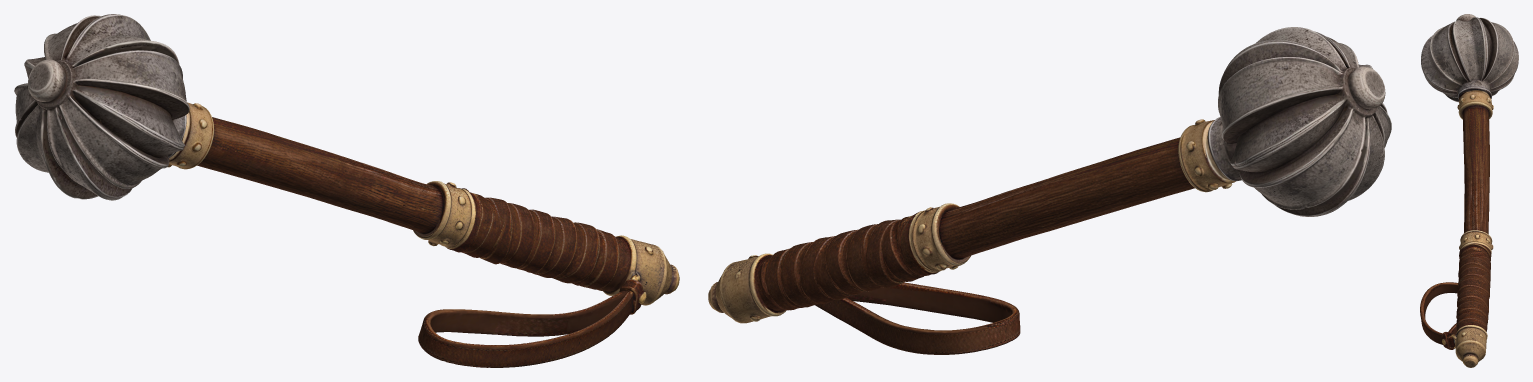
File: Küresel başlı gürz.glb
3 views of the same model, side by side, from view 1: azimuth 30°, elevation 25°; view 2: azimuth 150°, elevation 25°; view 3: azimuth 270°, elevation 25° (orthographic). The views are drawn at different scales.
Visible parts, largest first — view 1: tripo_node_808ea908-dbfe-4245-8e3c-948da2701cdd; view 2: tripo_node_808ea908-dbfe-4245-8e3c-948da2701cdd; view 3: tripo_node_808ea908-dbfe-4245-8e3c-948da2701cdd.
Boxes of the visible parts, x1,y1,x2,y2 form: tripo_node_808ea908-dbfe-4245-8e3c-948da2701cdd: (14, 14, 679, 367); tripo_node_808ea908-dbfe-4245-8e3c-948da2701cdd: (708, 27, 1391, 354); tripo_node_808ea908-dbfe-4245-8e3c-948da2701cdd: (1420, 14, 1518, 367).
Bounding box in the file's own units: 0.98 × 0.5888 × 0.2515.
Materials: 1 (1 with a texture image).
